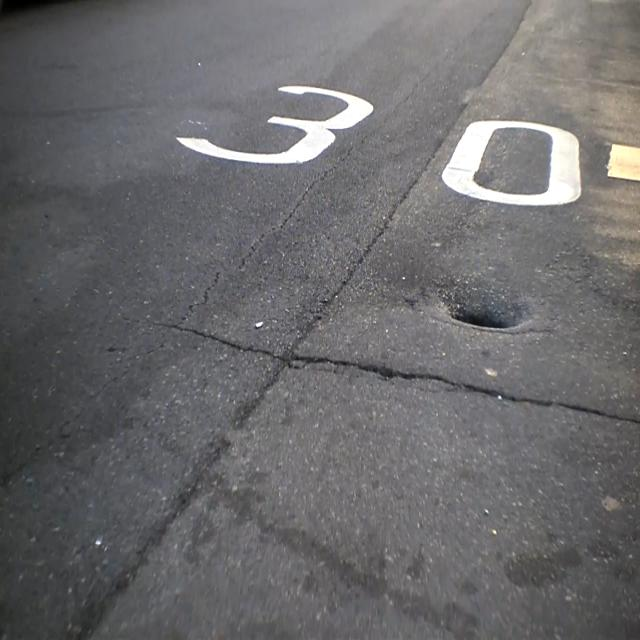Pothole: (427, 269, 532, 339)
